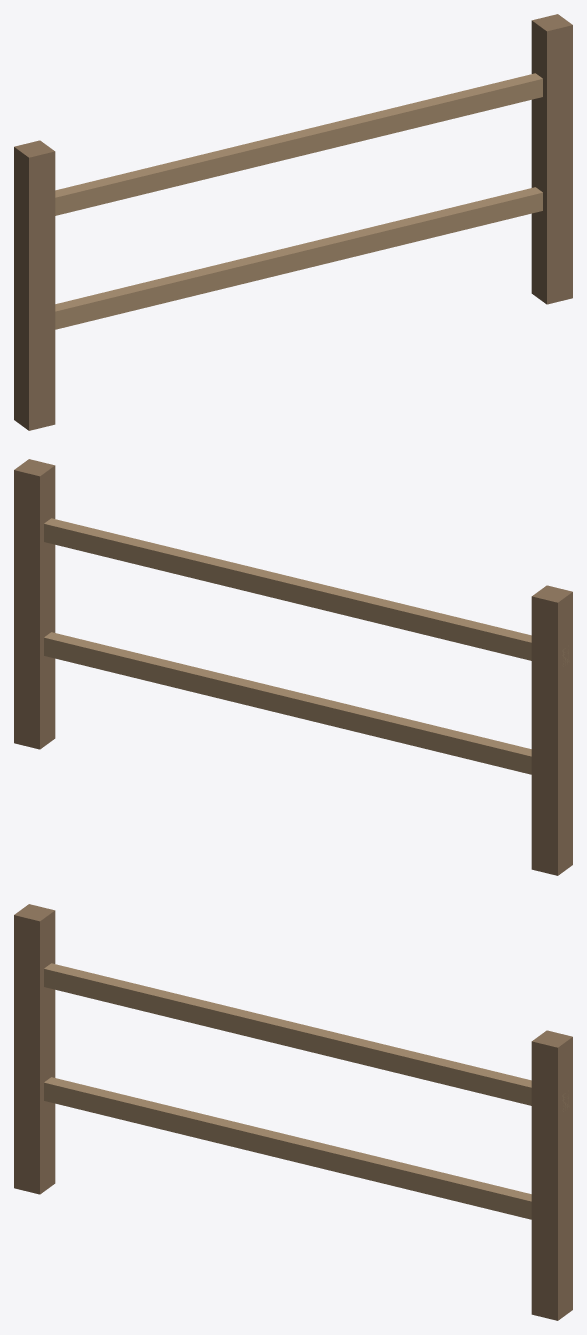
Rendered from pasture_fence.glb.
3 views of the same model, one above another, from view 1: azimuth 30°, elevation 25°; view 2: azimuth 150°, elevation 25°; view 3: azimuth 330°, elevation 25° (orthographic).
Parts seen in each view (by area): view 1: Rail, Rail#2, Post, Post#2; view 2: Rail#2, Rail, Post, Post#2; view 3: Rail#2, Rail, Post#2, Post.
Part boxes in pixels (box(x1,y1,x2,y2)): Rail: box(55, 187, 542, 329); Rail#2: box(55, 73, 542, 215); Post: box(14, 140, 55, 430); Post#2: box(531, 14, 572, 304); Rail#2: box(44, 518, 568, 666); Rail: box(44, 632, 531, 774); Post: box(531, 585, 572, 875); Post#2: box(14, 459, 55, 749); Rail#2: box(44, 963, 568, 1111); Rail: box(44, 1077, 531, 1219); Post#2: box(531, 1030, 572, 1320); Post: box(14, 904, 55, 1194).
Bounding box in the file's own units: 2.5 × 1.2 × 0.12.
